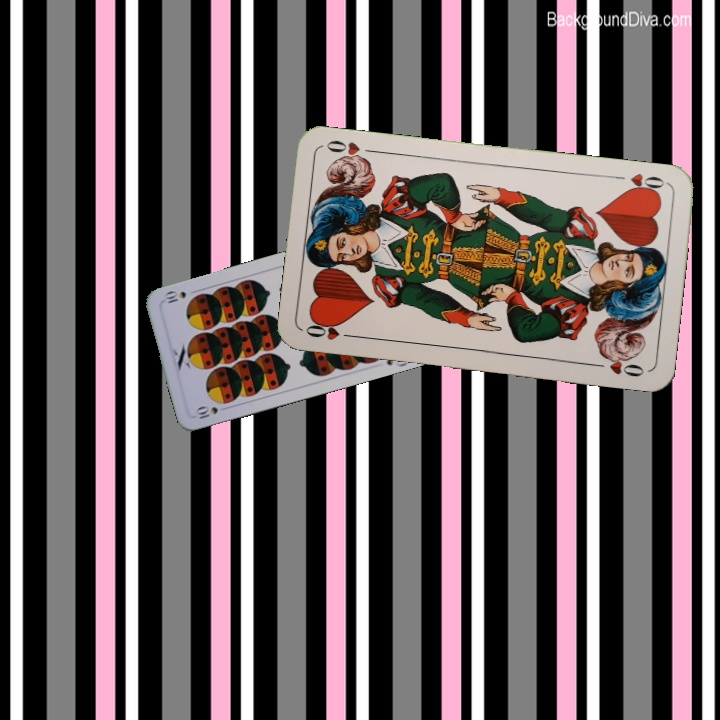HO: (610, 169, 669, 197), (301, 319, 360, 343)
S10: (191, 402, 231, 422)
